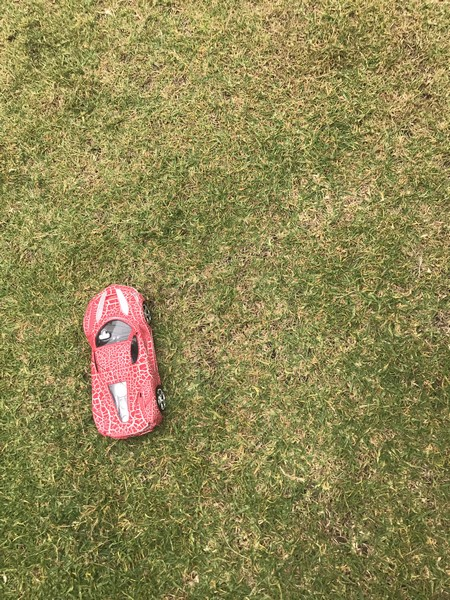RC: (78, 282, 165, 442)
